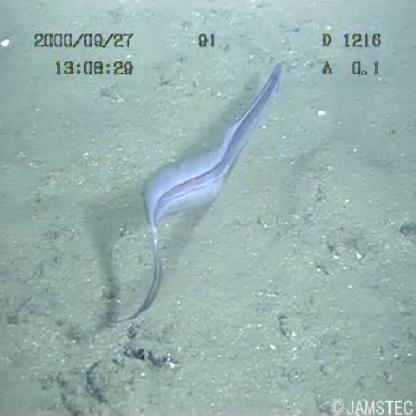Bio: (102, 55, 288, 330)
